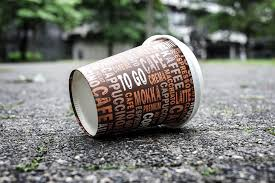paper_cup: (64, 34, 207, 139)
